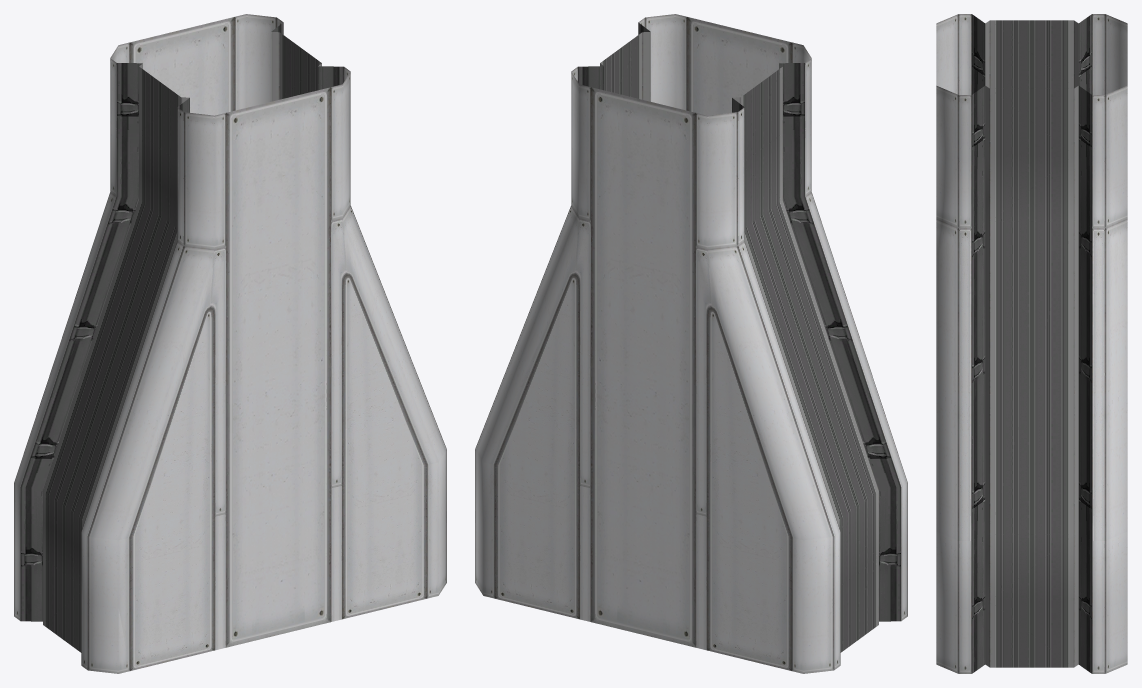
The model's file is CeilingBrace_Angletwoway.FBX.
3 renders of one model, left to right at view 1: azimuth 30°, elevation 25°; view 2: azimuth 150°, elevation 25°; view 3: azimuth 270°, elevation 25°, orthographic.
Visible parts, largest first — view 1: CeilingBrace_Angletwoway; view 2: CeilingBrace_Angletwoway; view 3: CeilingBrace_Angletwoway.
Boxes of the visible parts, box(x1,y1,x2,y2) form: CeilingBrace_Angletwoway: box(14, 14, 446, 673); CeilingBrace_Angletwoway: box(475, 14, 907, 673); CeilingBrace_Angletwoway: box(936, 14, 1127, 673).
Size of the model in its own units: 2.81 by 4 by 1.3.
